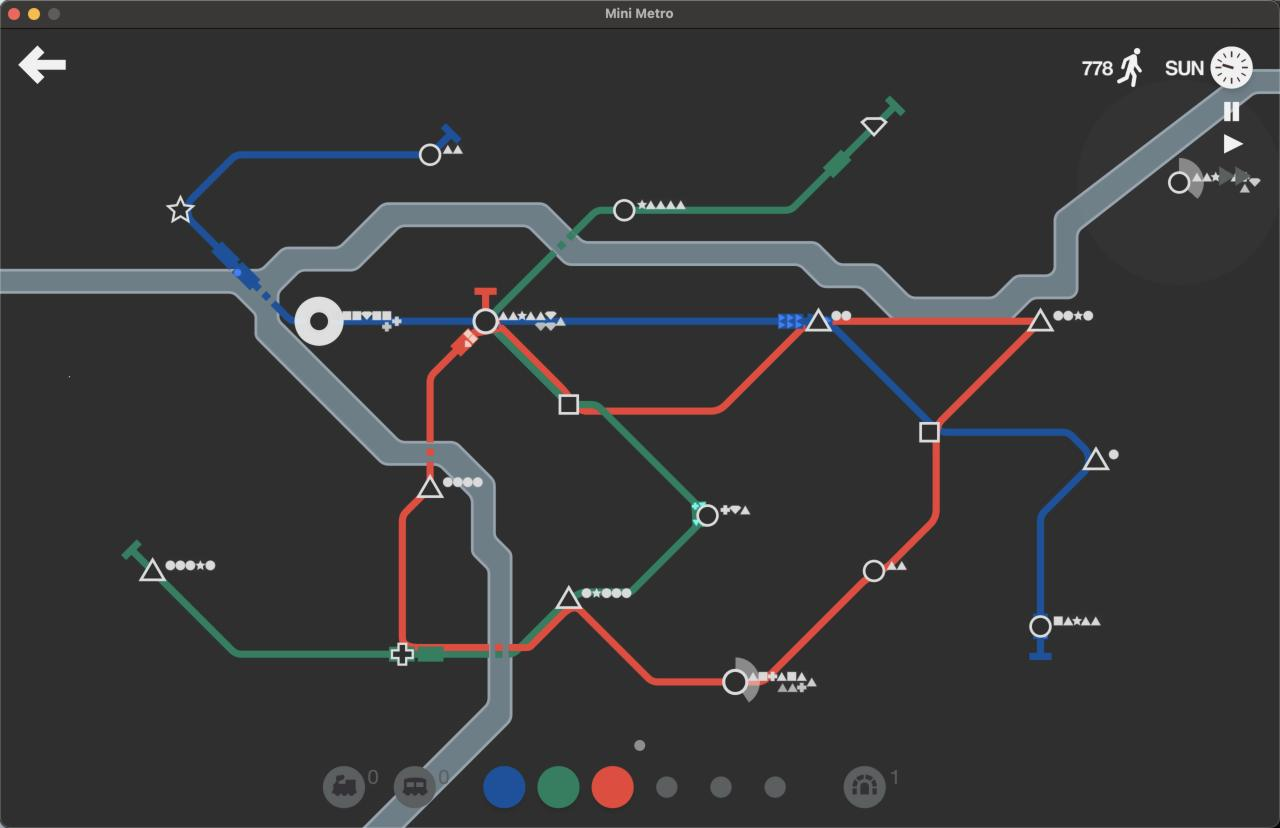BLUE LINE: (189, 150, 420, 200), (189, 217, 296, 324), (831, 325, 937, 422), (1039, 469, 1087, 612), (943, 429, 1089, 454), (500, 317, 811, 326), (346, 316, 471, 326), (434, 126, 465, 146), (1030, 641, 1051, 661)
DARK GREEN LINE: (634, 131, 870, 214), (161, 581, 389, 659), (491, 207, 613, 314), (580, 402, 701, 506), (574, 526, 700, 597), (494, 332, 561, 400), (520, 610, 561, 642), (416, 651, 520, 659), (121, 542, 148, 568), (884, 95, 906, 117)
ORANGE LINE: (441, 611, 722, 687), (606, 328, 806, 415), (748, 576, 867, 684), (936, 331, 1031, 425), (426, 329, 479, 476), (885, 443, 940, 566), (398, 496, 439, 648), (500, 326, 571, 394), (832, 317, 1031, 326), (581, 408, 599, 413)
